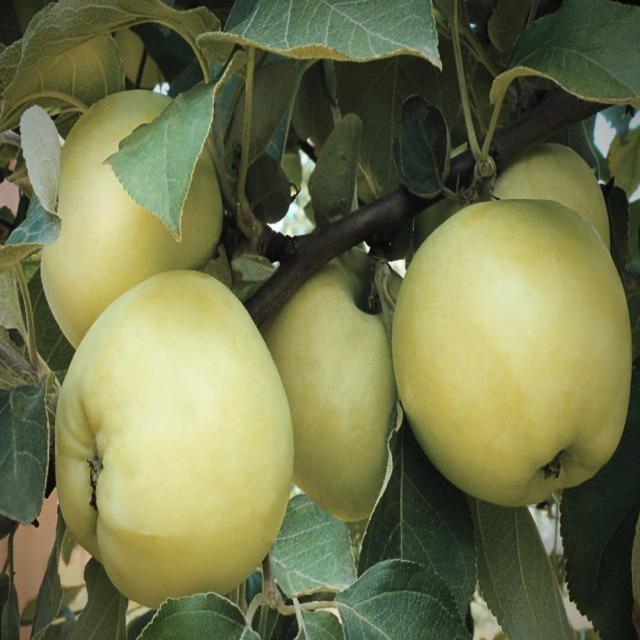Green Apple: (51, 279, 304, 605), (397, 193, 630, 501), (51, 89, 223, 324), (273, 246, 419, 516), (483, 136, 616, 284)
